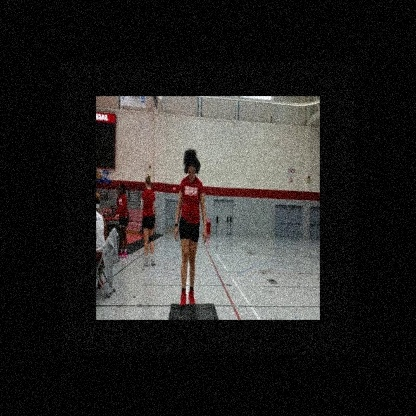lateral_flexion_right: (174, 147, 208, 310)
stance_width_narrow: (174, 174, 208, 310)
